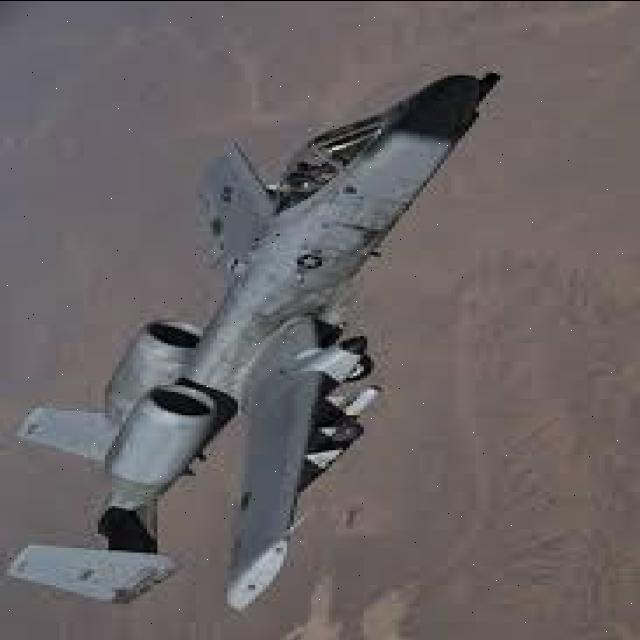A10: (0, 17, 513, 618)
